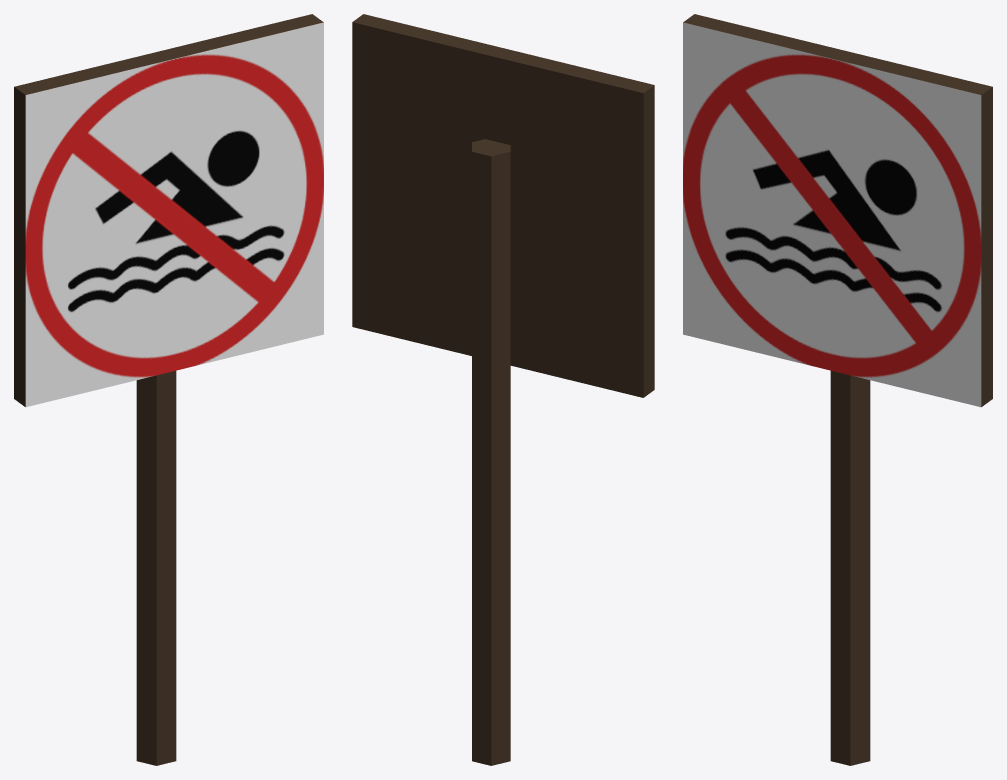
File: sign.fbx
The picture shows the model from 3 angles, left to right: view 1: azimuth 30°, elevation 25°; view 2: azimuth 150°, elevation 25°; view 3: azimuth 330°, elevation 25°; orthographic projection. The views are drawn at different scales.
Parts seen in each view (by area): view 1: pCube1, pCylinder1; view 2: pCube1, pCylinder1; view 3: pCube1, pCylinder1.
Part boxes in pixels (box(x1,y1,x2,y2)): pCube1: box(14, 14, 323, 407); pCylinder1: box(136, 370, 176, 765); pCube1: box(352, 14, 654, 397); pCylinder1: box(472, 139, 510, 765); pCube1: box(683, 14, 992, 407); pCylinder1: box(830, 370, 870, 765).
Bounding box in the file's own units: 15 × 34.15 × 2.45.
Materials: 2 (1 with a texture image).
